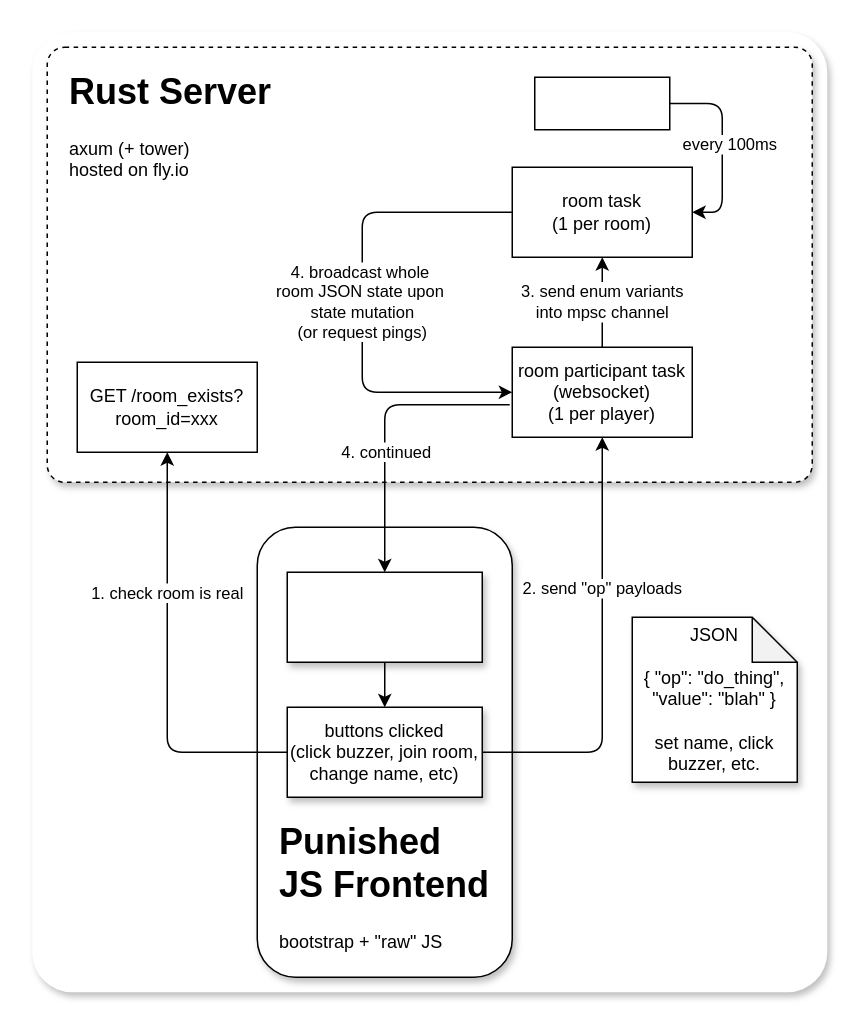
Some shapes in this 861 by 1028 pixel diagram are drawn without their labels. The centre of each missing label's shape, as x and y in pixels:
apply room state json authoritative: disable buttons, render names, etc: point (385, 619)
ping task: point (601, 103)
